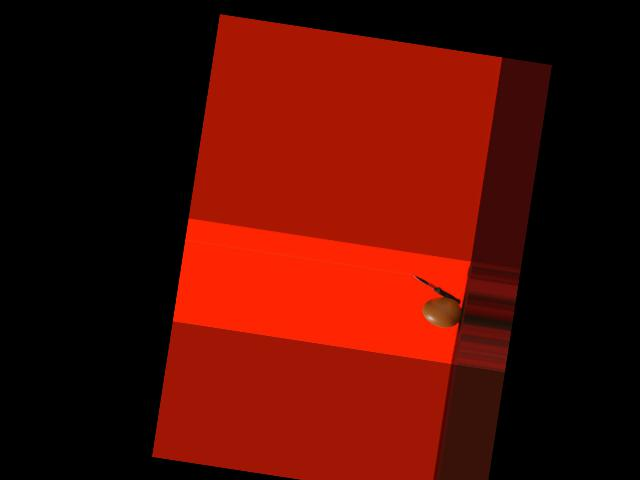egg: (421, 294, 463, 329)
